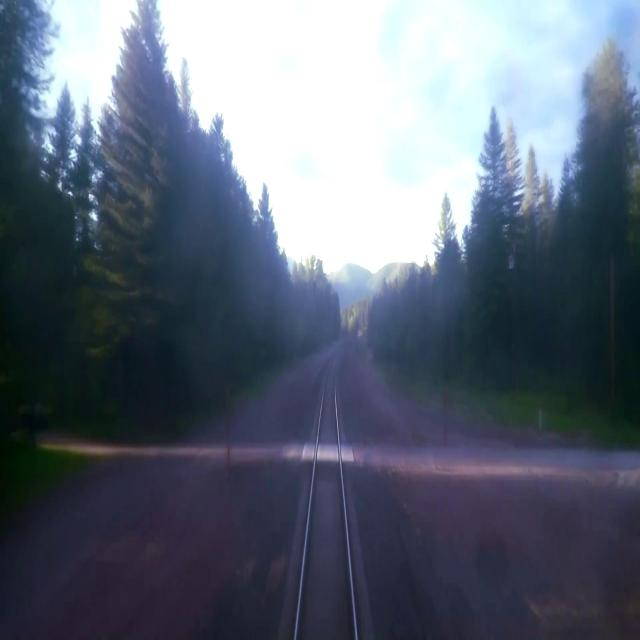rail-track: (297, 353, 353, 639)
